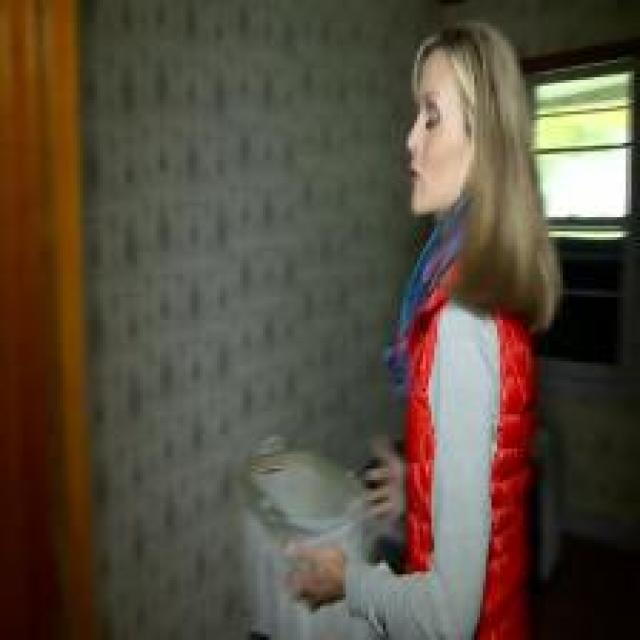other: (490, 319, 531, 634)
